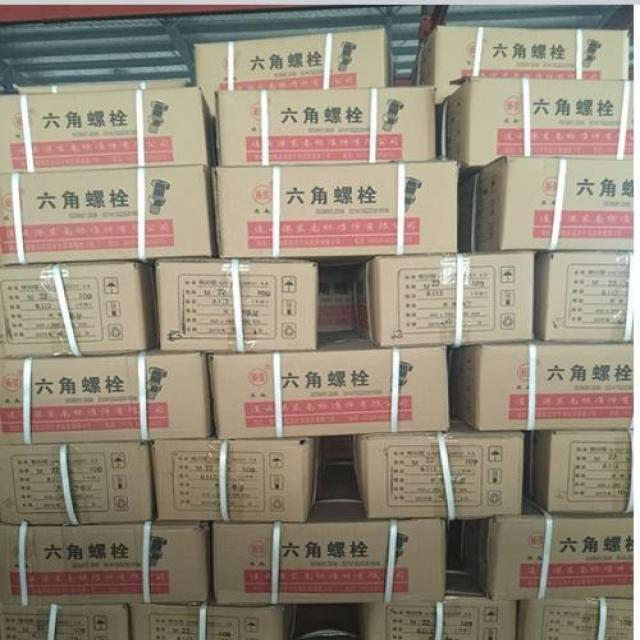box: (212, 457, 447, 605), (207, 329, 452, 440), (210, 159, 460, 267), (0, 163, 220, 265), (436, 75, 635, 187), (0, 349, 218, 445), (0, 86, 219, 174), (351, 418, 524, 521), (461, 497, 632, 601), (0, 520, 211, 604), (353, 251, 535, 348), (212, 86, 438, 164), (410, 26, 631, 105), (447, 338, 634, 431), (458, 155, 634, 252), (193, 28, 392, 113), (151, 437, 329, 524), (156, 258, 319, 353), (0, 262, 157, 356), (358, 554, 517, 640), (0, 443, 155, 526), (522, 429, 634, 513), (534, 250, 635, 343), (131, 601, 297, 640), (517, 600, 634, 640), (0, 604, 129, 640)
